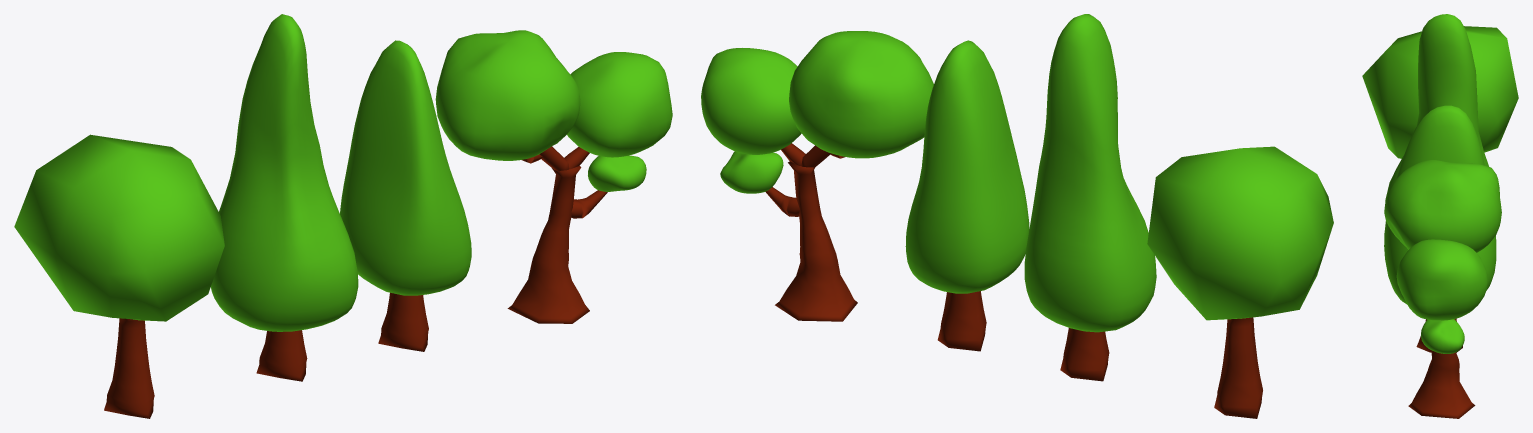
Rendered from Arbres2.fbx.
3 views of the same model, side by side, from view 1: azimuth 30°, elevation 25°; view 2: azimuth 150°, elevation 25°; view 3: azimuth 270°, elevation 25° (orthographic). The views are drawn at different scales.
Visible parts, largest first — view 1: Cube.025, Sphere.002, Cube.027, Cube.026; view 2: Sphere.002, Cube.027, Cube.025, Cube.026; view 3: Sphere.002, Cube.025, Cube.027, Cube.026.
Part boxes in pixels (<box>): Cube.025: <box>14,134,224,418</box>; Sphere.002: <box>435,30,672,323</box>; Cube.027: <box>211,14,358,381</box>; Cube.026: <box>340,40,471,351</box>; Sphere.002: <box>701,31,933,321</box>; Cube.027: <box>1024,14,1156,381</box>; Cube.025: <box>1147,146,1333,418</box>; Cube.026: <box>905,40,1029,351</box>; Sphere.002: <box>1384,159,1501,418</box>; Cube.025: <box>1362,26,1518,158</box>; Cube.027: <box>1385,14,1488,201</box>; Cube.026: <box>1384,105,1496,352</box>.
Bounding box in the file's own units: 1736 × 970 × 478.
